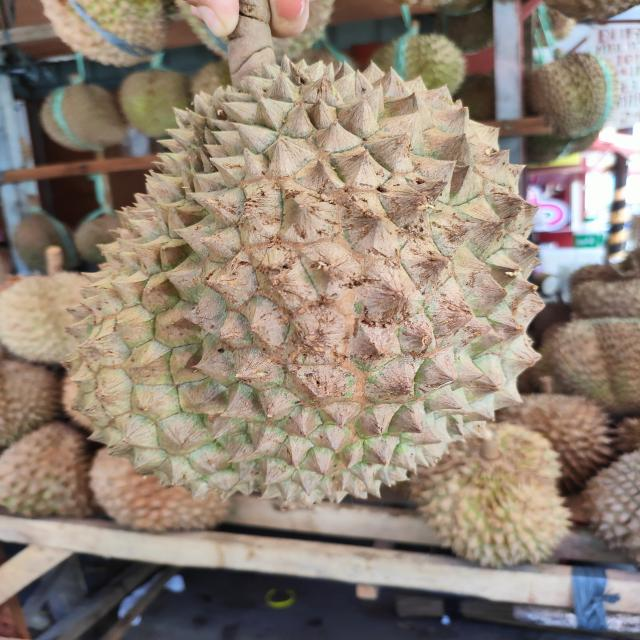mature: (57, 58, 542, 508)
